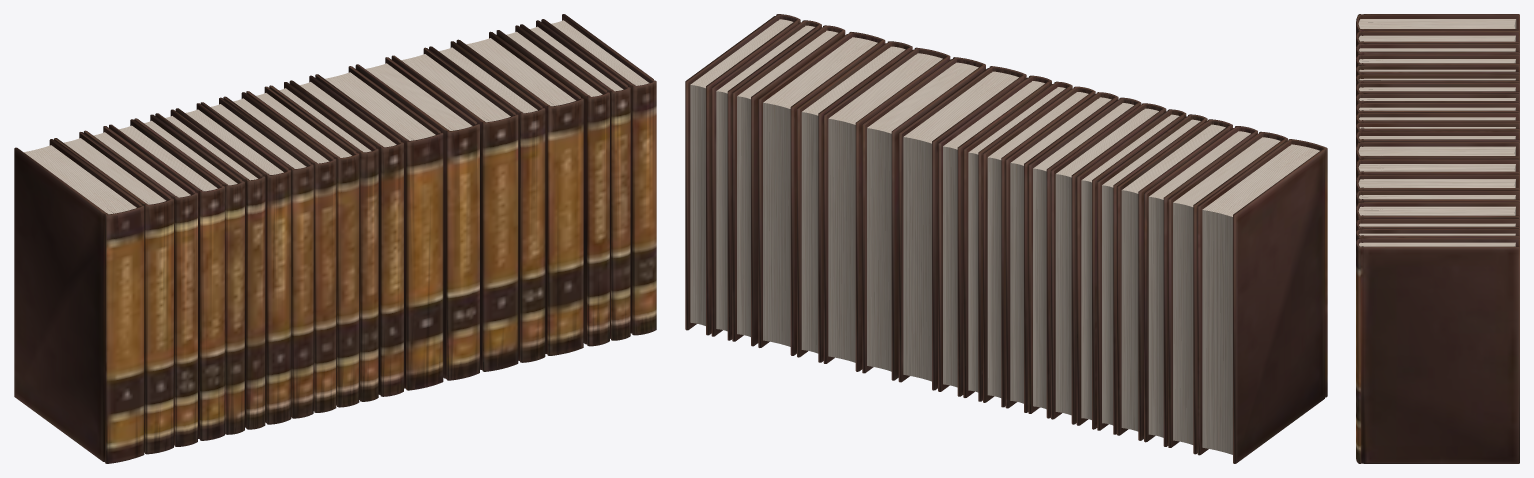
File: book_encyclopedia_set_01.glb
3 renders of one model, left to right at view 1: azimuth 30°, elevation 25°; view 2: azimuth 150°, elevation 25°; view 3: azimuth 270°, elevation 25°, orthographic. The views are drawn at different scales.
Visible parts, largest first — view 1: book_encyclopedia_set_01_book01, book_encyclopedia_set_01_book13, book_encyclopedia_set_01_book15, book_encyclopedia_set_01_book17, book_encyclopedia_set_01_book14, book_encyclopedia_set_01_book02, book_encyclopedia_set_01_book16, book_encyclopedia_set_01_book04, book_encyclopedia_set_01_book18, book_encyclopedia_set_01_book20, book_encyclopedia_set_01_book07, book_encyclopedia_set_01_book12 (+8 smaller); view 2: book_encyclopedia_set_01_book01, book_encyclopedia_set_01_book13, book_encyclopedia_set_01_book15, book_encyclopedia_set_01_book17, book_encyclopedia_set_01_book14, book_encyclopedia_set_01_book02, book_encyclopedia_set_01_book04, book_encyclopedia_set_01_book16, book_encyclopedia_set_01_book20, book_encyclopedia_set_01_book18, book_encyclopedia_set_01_book07, book_encyclopedia_set_01_book12 (+8 smaller); view 3: book_encyclopedia_set_01_book20, book_encyclopedia_set_01_book13, book_encyclopedia_set_01_book01, book_encyclopedia_set_01_book17, book_encyclopedia_set_01_book15, book_encyclopedia_set_01_book14, book_encyclopedia_set_01_book02, book_encyclopedia_set_01_book16, book_encyclopedia_set_01_book03, book_encyclopedia_set_01_book12, book_encyclopedia_set_01_book04, book_encyclopedia_set_01_book07 (+8 smaller).
Boxes of the visible parts, box(x1,y1,x2,y2) form: book_encyclopedia_set_01_book01: box(14, 139, 144, 463); book_encyclopedia_set_01_book13: box(315, 66, 443, 390); book_encyclopedia_set_01_book15: box(391, 47, 518, 371); book_encyclopedia_set_01_book17: box(456, 31, 583, 355); book_encyclopedia_set_01_book14: box(355, 57, 479, 380); book_encyclopedia_set_01_book02: box(54, 132, 173, 454); book_encyclopedia_set_01_book16: box(429, 41, 545, 362); book_encyclopedia_set_01_book04: box(109, 119, 224, 440); book_encyclopedia_set_01_book18: box(496, 25, 609, 346); book_encyclopedia_set_01_book20: box(541, 14, 656, 335); book_encyclopedia_set_01_book07: box(175, 103, 291, 424); book_encyclopedia_set_01_book12: box(289, 75, 403, 396); book_encyclopedia_set_01_book01: box(1197, 139, 1327, 463); book_encyclopedia_set_01_book13: box(898, 66, 1026, 390); book_encyclopedia_set_01_book15: box(823, 47, 950, 371); book_encyclopedia_set_01_book17: box(758, 32, 885, 355); book_encyclopedia_set_01_book14: box(862, 57, 985, 380); book_encyclopedia_set_01_book02: box(1168, 131, 1287, 454); book_encyclopedia_set_01_book04: box(1117, 119, 1232, 440); book_encyclopedia_set_01_book16: box(797, 41, 912, 362); book_encyclopedia_set_01_book20: box(685, 14, 800, 335); book_encyclopedia_set_01_book18: box(732, 25, 845, 346); book_encyclopedia_set_01_book07: box(1051, 103, 1166, 424); book_encyclopedia_set_01_book12: box(938, 75, 1051, 396); book_encyclopedia_set_01_book20: box(1356, 238, 1519, 463); book_encyclopedia_set_01_book13: box(1356, 142, 1519, 165); book_encyclopedia_set_01_book01: box(1356, 14, 1519, 35); book_encyclopedia_set_01_book17: box(1356, 202, 1519, 221); book_encyclopedia_set_01_book15: box(1356, 174, 1519, 194); book_encyclopedia_set_01_book14: box(1356, 159, 1519, 180); book_encyclopedia_set_01_book02: box(1356, 30, 1519, 47); book_encyclopedia_set_01_book16: box(1356, 190, 1519, 222); book_encyclopedia_set_01_book03: box(1356, 43, 1519, 58); book_encyclopedia_set_01_book12: box(1356, 131, 1519, 149); book_encyclopedia_set_01_book04: box(1356, 54, 1519, 69); book_encyclopedia_set_01_book07: box(1356, 82, 1519, 96).
Bounding box in the file's own units: 0.5513 × 0.2374 × 0.1631.
Materials: 2 (2 with a texture image).
